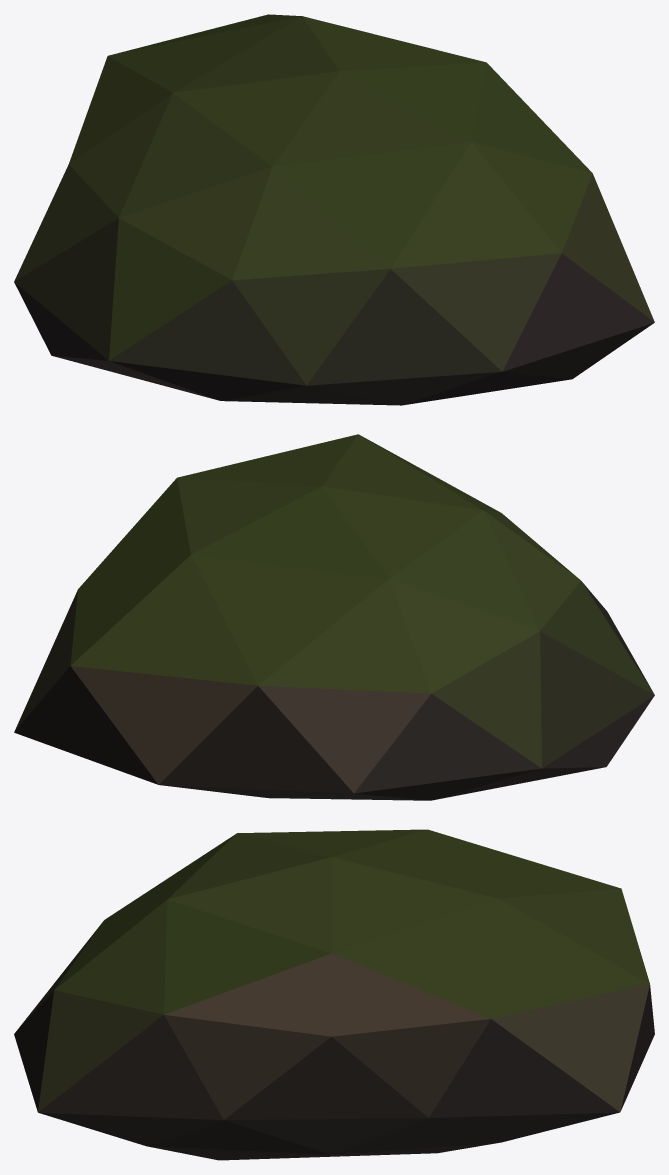
Rendered from boulder_medium.glb.
3 renders of one model, top to bottom at view 1: azimuth 30°, elevation 25°; view 2: azimuth 150°, elevation 25°; view 3: azimuth 270°, elevation 25°, orthographic. The views are drawn at different scales.
Parts seen in each view (by area): view 1: boulder_medium; view 2: boulder_medium; view 3: boulder_medium.
Boxes of the visible parts, box(x1,y1,x2,y2) form: boulder_medium: box(14, 14, 654, 405); boulder_medium: box(14, 434, 654, 800); boulder_medium: box(14, 829, 654, 1160).
Size of the model in its own units: 1.61 by 0.8033 by 1.95.
